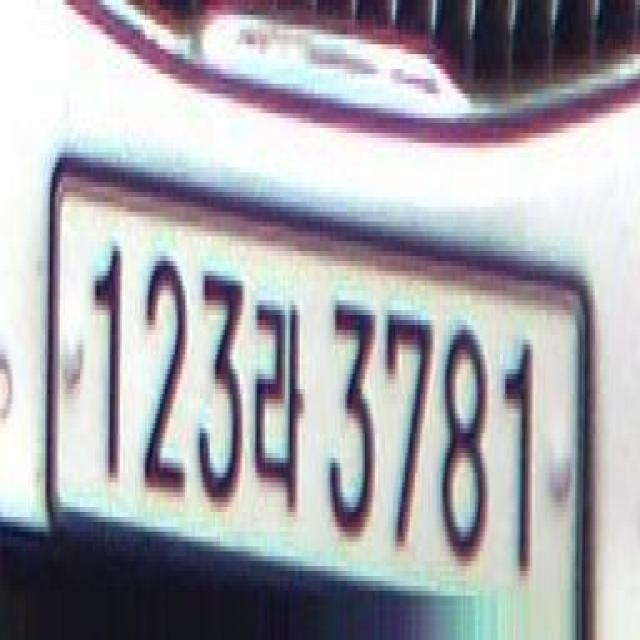illegal_plate: (48, 170, 598, 622)
